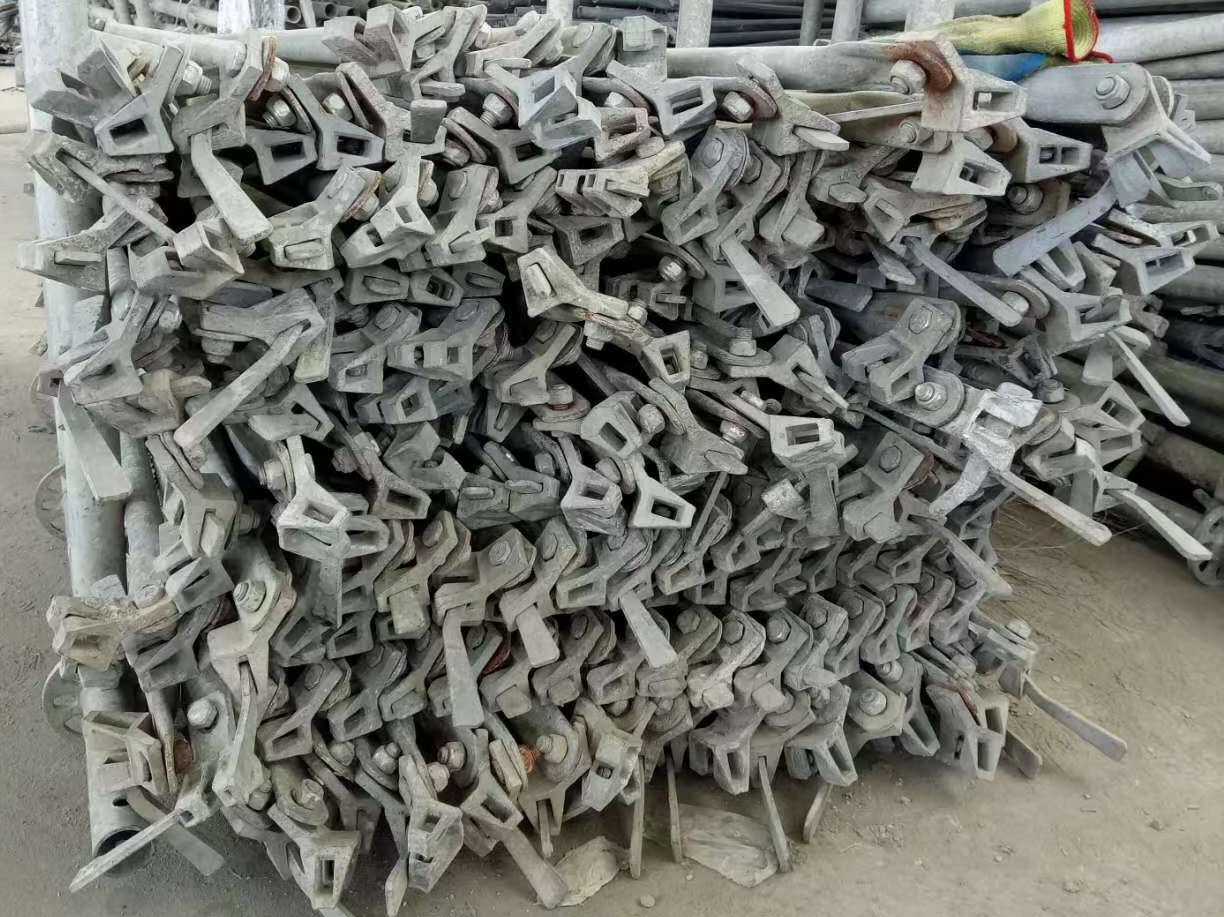NHsquare_steel: (968, 391, 1042, 473), (579, 734, 630, 811)
THsquare_steel: (173, 769, 247, 829)
circle_steel: (85, 822, 156, 877)
sigma_steel: (930, 70, 1028, 133), (910, 150, 1013, 200), (287, 835, 358, 907), (95, 97, 175, 158), (176, 221, 246, 282), (64, 355, 144, 406), (1022, 132, 1093, 188), (492, 128, 560, 186), (577, 399, 642, 459), (315, 117, 385, 172), (657, 77, 717, 141), (274, 487, 344, 540), (250, 132, 316, 188), (514, 66, 576, 125), (1075, 383, 1146, 434), (51, 621, 119, 674), (166, 562, 235, 614), (766, 411, 836, 461), (625, 482, 695, 532), (563, 212, 626, 267), (370, 5, 419, 75), (1129, 247, 1197, 297), (274, 603, 329, 664), (461, 784, 525, 835), (696, 264, 763, 312), (77, 704, 148, 749), (595, 105, 651, 162), (131, 245, 195, 294), (812, 725, 861, 789), (366, 195, 434, 241), (643, 328, 695, 388), (134, 646, 201, 692), (563, 473, 623, 524), (408, 799, 460, 856), (694, 268, 758, 314), (340, 224, 401, 270), (1002, 335, 1053, 389), (663, 196, 718, 246), (1040, 237, 1091, 289), (1149, 214, 1220, 251), (481, 205, 532, 256), (375, 479, 431, 525), (1080, 426, 1142, 467), (708, 738, 751, 797), (959, 723, 1003, 780), (872, 357, 924, 404), (257, 720, 315, 762), (385, 384, 441, 426), (329, 356, 385, 397), (326, 699, 382, 740), (427, 338, 477, 383), (405, 271, 464, 309), (337, 518, 390, 560), (898, 709, 943, 758), (326, 620, 377, 663), (585, 664, 636, 707), (553, 573, 607, 609), (714, 534, 760, 571), (334, 574, 375, 614), (974, 692, 1007, 739), (659, 561, 706, 594), (687, 575, 728, 610), (934, 610, 972, 647), (884, 555, 924, 588), (865, 630, 902, 664), (805, 561, 841, 594), (830, 647, 863, 679), (899, 619, 931, 652)
sigma_steel_blocked: (16, 129, 92, 206), (16, 234, 107, 292), (1050, 294, 1132, 351), (251, 309, 329, 366), (208, 635, 272, 702), (766, 336, 828, 403), (767, 106, 842, 160), (513, 247, 570, 318), (179, 491, 239, 558), (169, 103, 246, 153), (264, 221, 333, 274), (272, 388, 335, 444), (756, 200, 817, 254), (384, 113, 448, 163), (429, 218, 487, 269), (678, 435, 743, 478), (590, 171, 649, 218), (139, 368, 185, 428), (341, 269, 409, 309), (700, 206, 755, 255), (863, 188, 910, 245), (400, 67, 470, 105), (341, 796, 383, 858), (507, 466, 559, 516), (520, 787, 567, 840), (455, 473, 506, 521), (377, 570, 432, 613), (843, 499, 898, 542), (811, 169, 867, 211), (494, 366, 550, 408), (430, 589, 490, 628), (499, 588, 551, 632), (735, 668, 785, 710), (1089, 472, 1141, 512), (748, 740, 786, 794), (480, 674, 533, 712), (381, 678, 428, 720), (479, 403, 527, 444), (686, 670, 735, 710), (640, 278, 683, 323), (534, 667, 584, 705), (784, 654, 830, 693), (635, 666, 689, 699), (606, 574, 655, 610), (793, 262, 836, 301), (655, 734, 690, 777), (461, 269, 507, 300), (735, 580, 778, 612), (786, 524, 832, 553), (772, 567, 807, 599)
